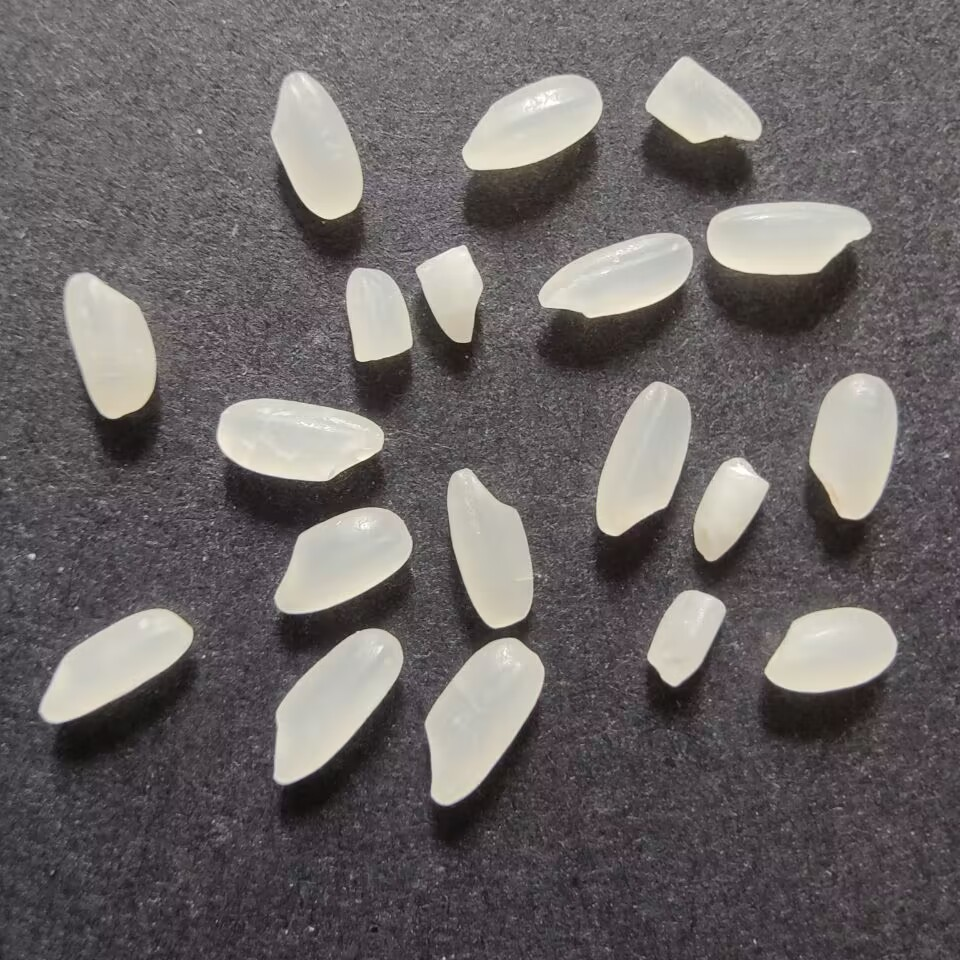broken: (640, 50, 767, 145), (688, 452, 772, 567), (640, 585, 728, 692), (409, 241, 488, 350), (342, 262, 418, 366)
rice: (266, 625, 406, 794), (420, 634, 550, 810), (33, 604, 197, 730), (588, 374, 699, 546), (257, 65, 367, 223), (268, 502, 415, 617), (210, 394, 388, 486), (454, 70, 606, 174), (56, 267, 157, 422), (445, 464, 538, 632), (532, 229, 700, 320), (806, 369, 900, 523), (702, 198, 879, 279), (758, 607, 904, 699)
